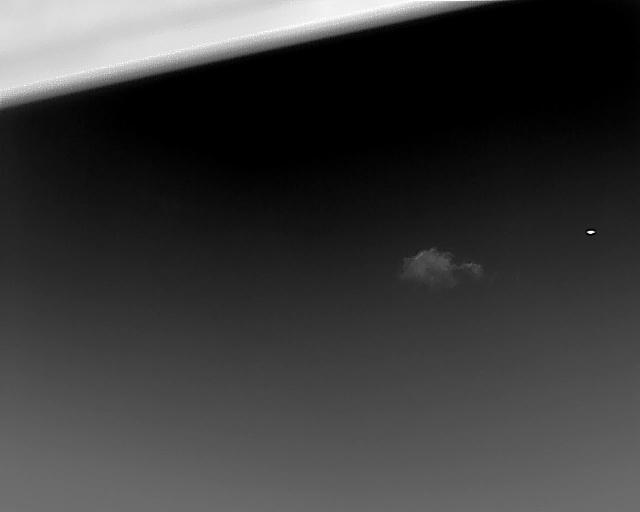fpv-drone: (585, 229, 597, 236)
